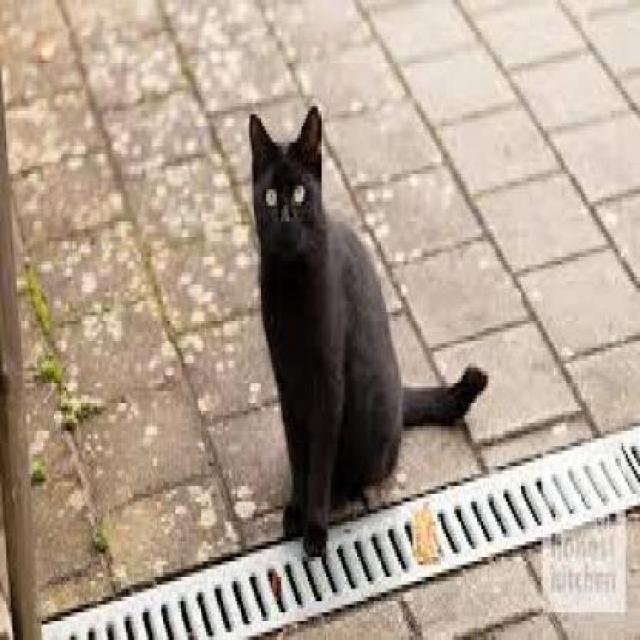animals: (239, 94, 493, 560)
